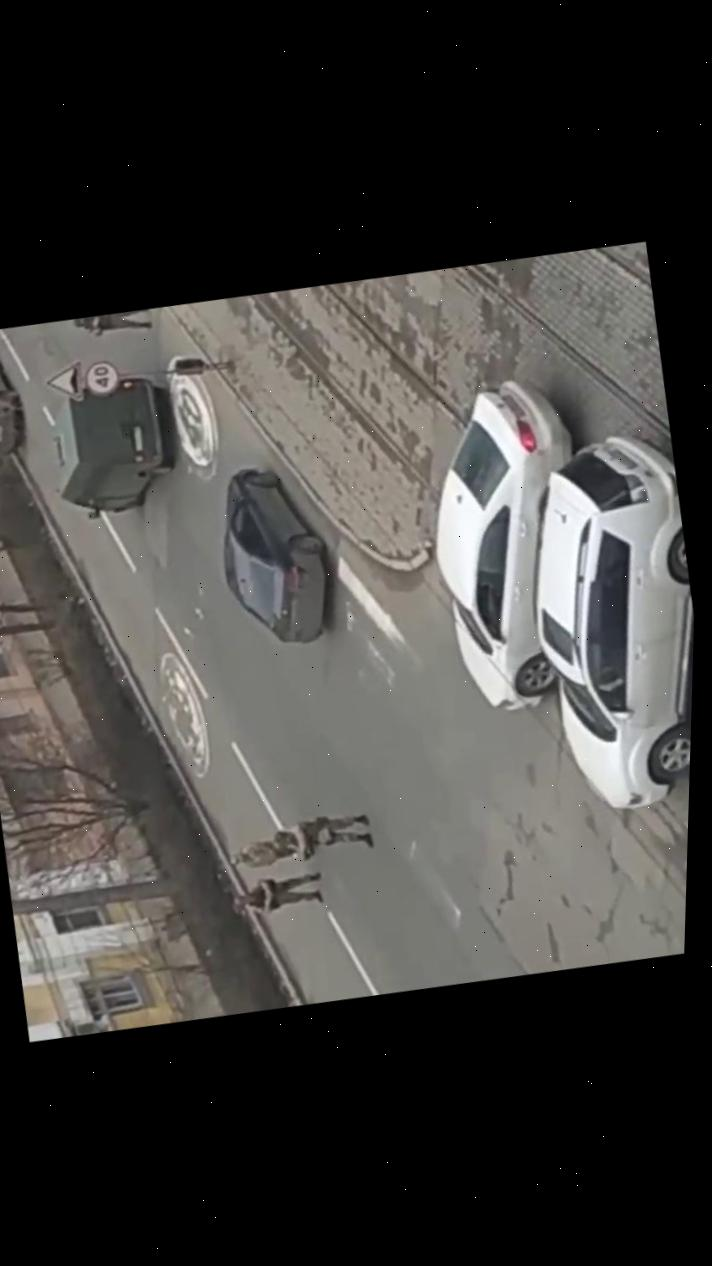car: (500, 420, 700, 820), (408, 370, 615, 719), (206, 454, 341, 655), (41, 368, 188, 523), (0, 351, 29, 460)
person: (270, 807, 375, 865), (232, 867, 325, 917), (227, 832, 301, 872), (72, 306, 151, 340)
